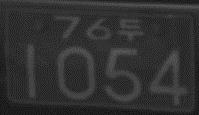0: (55, 45, 96, 100)
1: (16, 43, 48, 99)
4: (148, 48, 187, 105)
5: (103, 46, 142, 102)
6: (86, 16, 111, 41)
7: (52, 15, 82, 38)
두: (115, 17, 143, 41)
